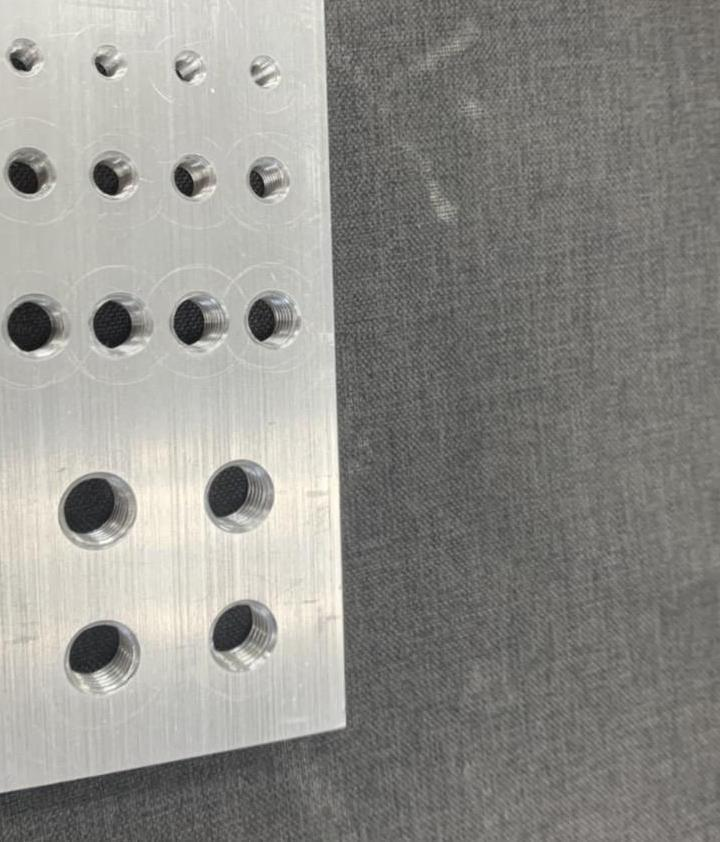hole: (54, 458, 144, 560), (55, 616, 146, 700), (199, 452, 282, 538), (204, 597, 288, 678), (0, 288, 74, 364), (168, 290, 231, 358), (90, 292, 154, 358), (241, 288, 302, 356), (81, 146, 146, 204), (1, 141, 55, 205), (166, 153, 224, 204), (243, 156, 295, 208), (166, 47, 214, 90), (246, 54, 290, 95), (3, 36, 47, 77), (86, 46, 136, 82)
